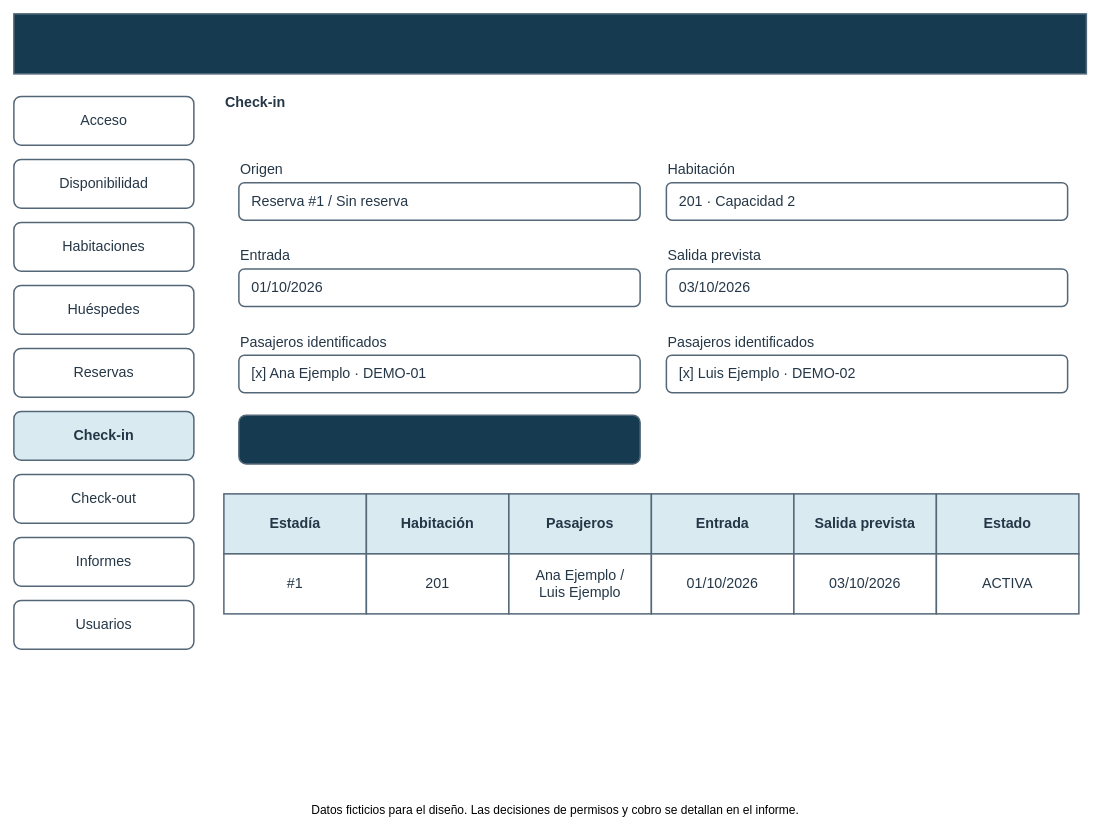
Image size: 1100x836. Some labels were removed from this diagram. Each missing label, with the centre of its shape:
"Confirmar check-in" belongs at (439,439).
"Hotel Duerme Bien · Sistema de pasajeros" belongs at (550,43).
